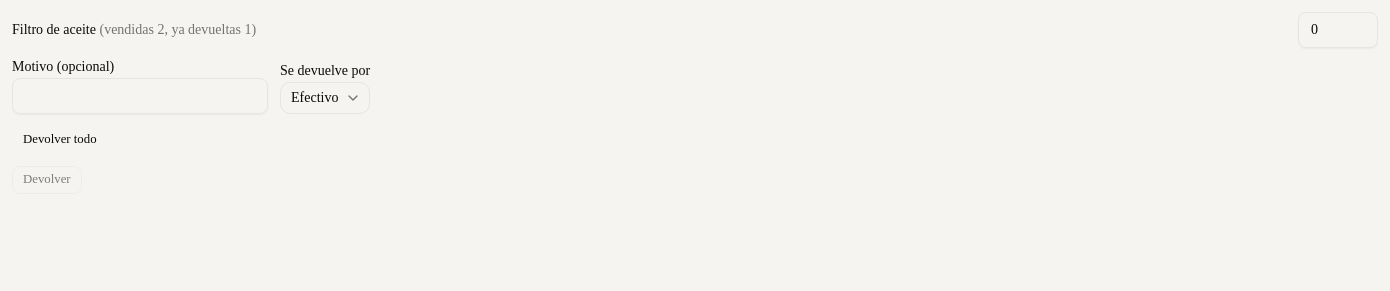
DevolucionForm › topa la cantidad en lo que queda por devolver
This screenshot has width=1390, height=291.
Type "5" into the number field named "Cantidad a devolver de Filtro de aceite" at (1338, 30), box [1298, 12, 1378, 48]
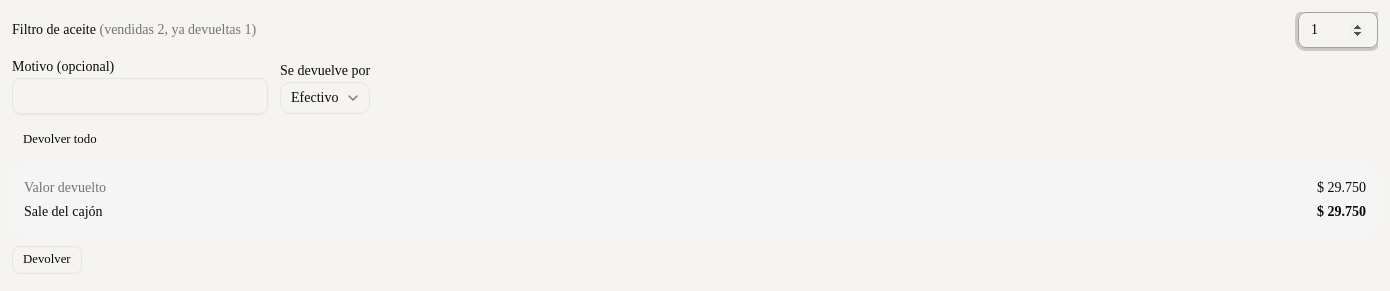
Result: the number field named "Cantidad a devolver de Filtro de aceite" holds "1" at [1298, 12, 1378, 48]
